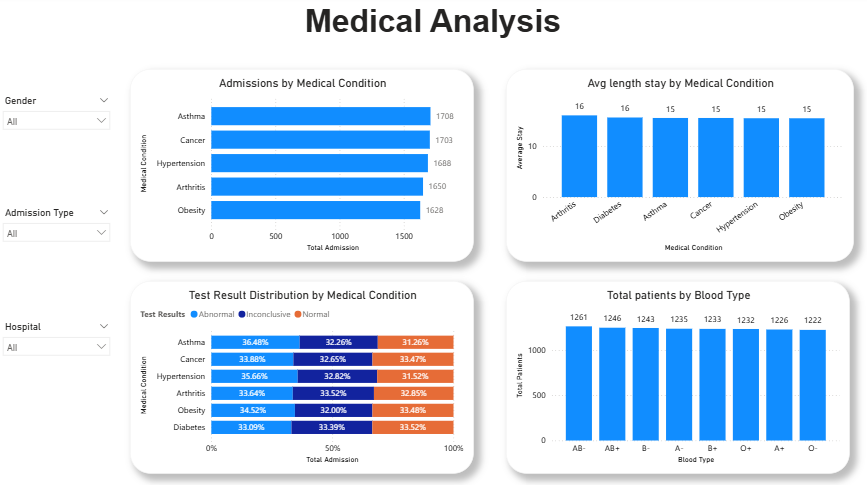

What the dashboard file says about the page in this screenshot:
{"tool":"powerbi","page":{"name":"Medical Analysis","canvas":[1280,720],"ordinal":1},"visuals":[{"type":"textbox","title":"Medical Analysis","box":[109.8,10.2,1059.5,82],"z":0},{"type":"barChart","title":"Admissions by Medical Condition","fields":{"Category":["healthcare_dataset.Medical Condition"],"Y":["healthcare_dataset.Total_admission"]},"box":[196.1,106.8,503.4,282.4],"z":2000},{"type":"columnChart","title":"Avg length stay by Medical Condition","fields":{"Category":["healthcare_dataset.Medical Condition"],"Y":["healthcare_dataset.Avg_length_stay"]},"box":[746.3,106.8,509.3,282.4],"z":3000},{"type":"hundredPercentStackedBarChart","title":"Test Result Distribution by Medical Condition","fields":{"Series":["healthcare_dataset.Test Results"],"Y":["healthcare_dataset.Total_admission"],"Category":["healthcare_dataset.Medical Condition"]},"box":[196.1,417.1,503.4,282.4],"z":4000},{"type":"clusteredColumnChart","title":"Total patients by Blood Type","fields":{"Y":["healthcare_dataset.Total_patients"],"Category":["healthcare_dataset.Blood Type"]},"box":[746.3,417.1,503.4,282.4],"z":5000},{"type":"slicer","fields":{"Values":["healthcare_dataset.Gender"]},"box":[0,140.5,177.1,70.2],"z":6000},{"type":"slicer","fields":{"Values":["healthcare_dataset.Admission Type"]},"box":[0,304.4,177.1,70.2],"z":7000},{"type":"slicer","fields":{"Values":["healthcare_dataset.Hospital"]},"box":[0,471.2,177.1,70.2],"z":8000}]}

Visuals, with their boxes in screenshot pixels (x1, y1, x2, y2), scaled from the page's 1280x720 canvas onto the 867x485 screenshot:
"Medical Analysis" textbox: (x1=74, y1=7, x2=792, y2=62)
"Admissions by Medical Condition" barChart: (x1=133, y1=72, x2=474, y2=262)
"Avg length stay by Medical Condition" columnChart: (x1=506, y1=72, x2=850, y2=262)
"Test Result Distribution by Medical Condition" hundredPercentStackedBarChart: (x1=133, y1=281, x2=474, y2=471)
"Total patients by Blood Type" clusteredColumnChart: (x1=506, y1=281, x2=846, y2=471)
slicer - healthcare_dataset.Gender: (x1=0, y1=95, x2=120, y2=142)
slicer - healthcare_dataset.Admission Type: (x1=0, y1=205, x2=120, y2=252)
slicer - healthcare_dataset.Hospital: (x1=0, y1=317, x2=120, y2=365)
